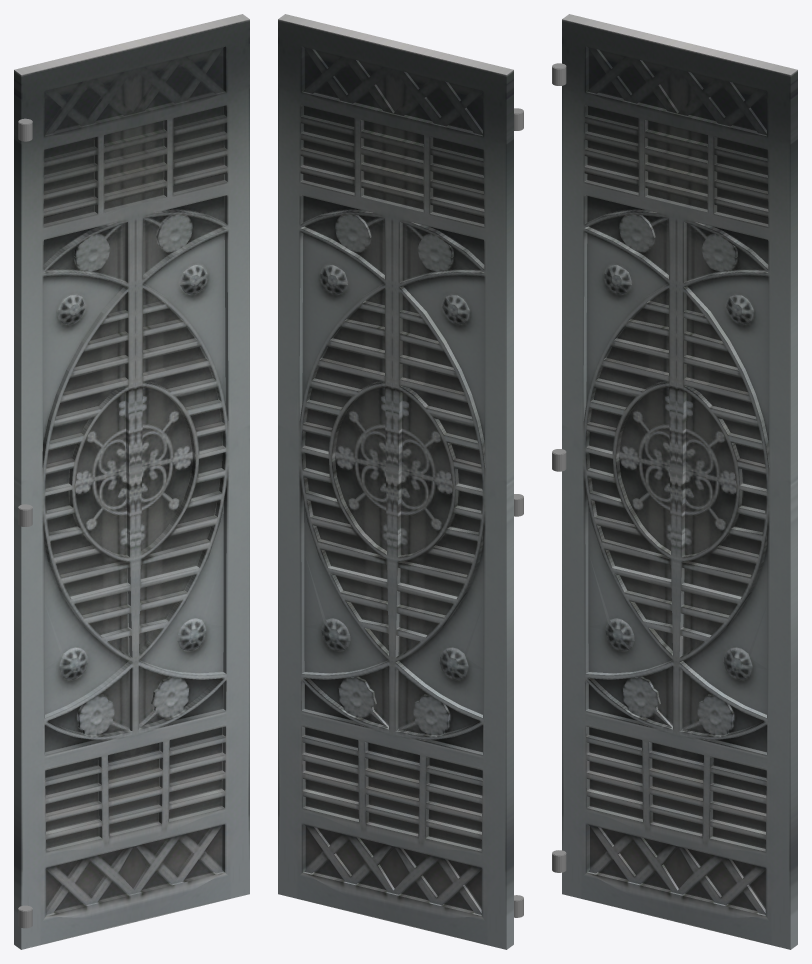
Rendered from EntranceDoorLeft1.fbx.
3 renders of one model, left to right at view 1: azimuth 30°, elevation 25°; view 2: azimuth 150°, elevation 25°; view 3: azimuth 330°, elevation 25°, orthographic.
Parts seen in each view (by area): view 1: EntranceDoorLeft1; view 2: EntranceDoorLeft1; view 3: EntranceDoorLeft1.
Boxes of the visible parts, x1,y1,x2,y2 form: EntranceDoorLeft1: [14, 14, 249, 949]; EntranceDoorLeft1: [278, 14, 523, 949]; EntranceDoorLeft1: [552, 14, 797, 949].
Size of the model in its own units: 94.81 by 338 by 10.12.
Materials: 2 (1 with a texture image).
